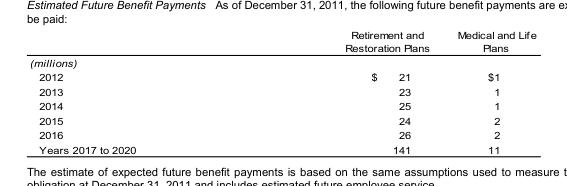table: (29, 28, 535, 154)
table column: (29, 28, 239, 154), (239, 28, 442, 154), (442, 28, 535, 154)
table column header: (29, 28, 535, 55)
table projected row header: (29, 55, 535, 69)
table row: (29, 28, 535, 55), (29, 69, 535, 84), (29, 98, 535, 113), (29, 55, 535, 69), (29, 84, 535, 98), (29, 113, 535, 127), (29, 127, 535, 141), (29, 141, 535, 154)
